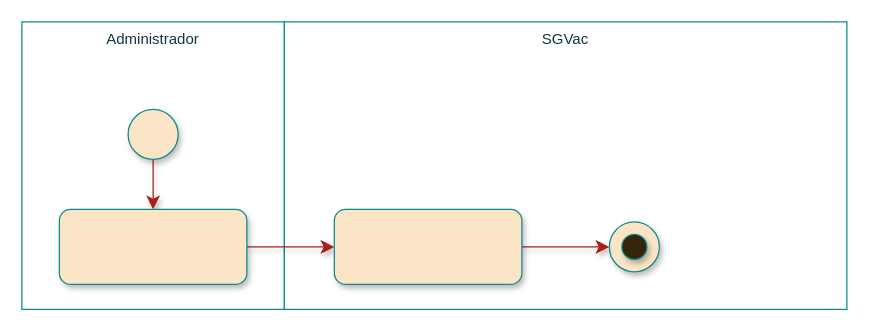
Some shapes in this 869 by 331 pixel diagram are drawn without their labels. The centre of each missing label's shape, as x and y in pixels:
"Elige la opción de listar postulaciones de un postulante" belongs at point 153,248.
"Lista las postulaciones" belongs at point 428,248.
